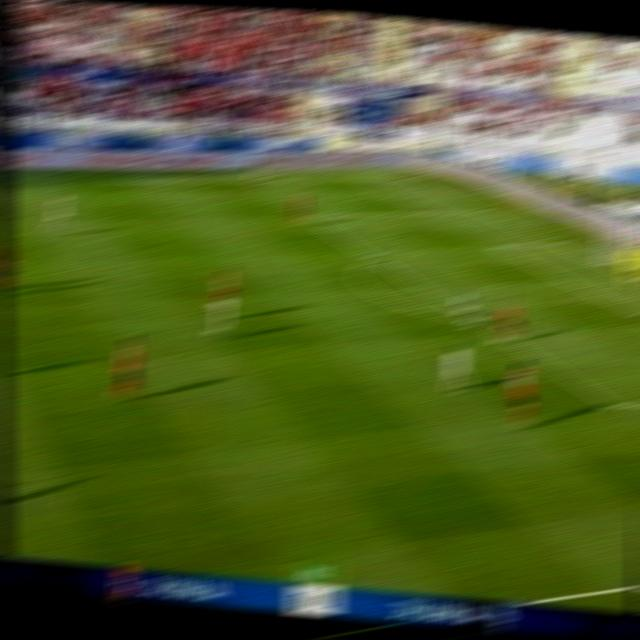bigarea_bottom_inner: (602, 391, 631, 419)
bigarea_top_inner: (299, 207, 321, 224)
bigarea_top_outter: (472, 202, 493, 217)
bottom_arc_area_intersection: (461, 310, 485, 327)
corner: (399, 172, 422, 184)
smallarea_top_inner: (488, 238, 511, 252)
smallarea_top_outter: (545, 234, 568, 249)
top_arc_area_intersection: (362, 247, 386, 264)
